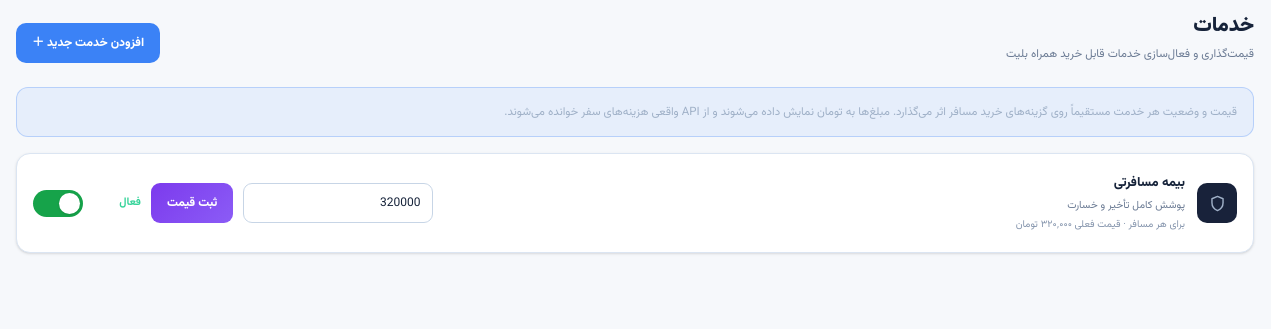
Scenario: CommercialServicesPage › renders real API rows and saves the edited toman price as rial
Expected: the heading "بیمه مسافرتی" is shown, [1114,173,1185,193]
Replace the text in the field named "قیمت بیمه مسافرتی" with "450000" at (338, 203), box [243,183,433,223]
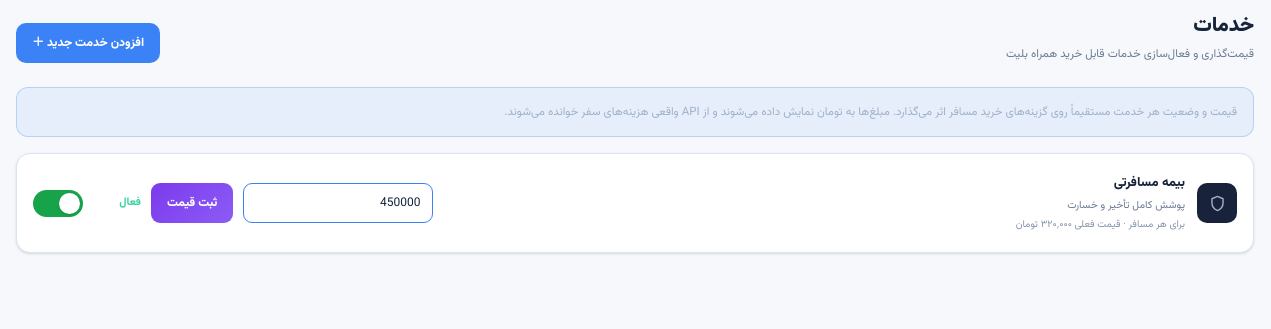
Click the button "ثبت قیمت" at (192, 203), box [151,183,233,223]
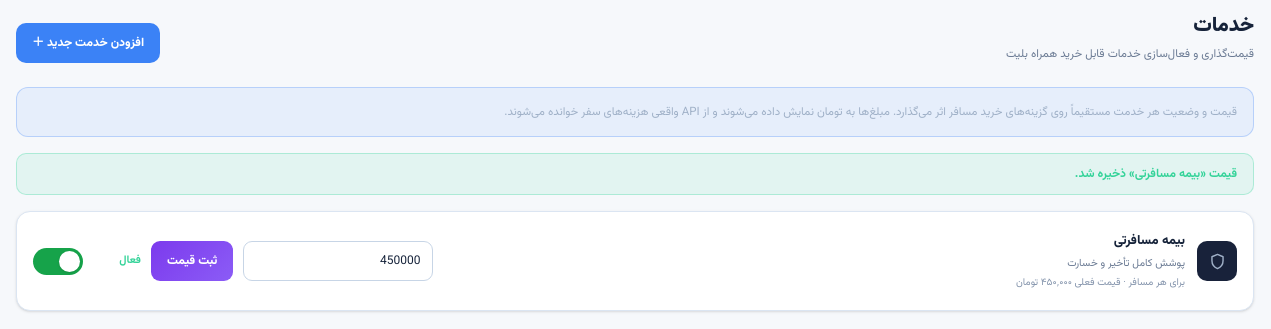
Result: the text "قیمت «بیمه مسافرتی» ذخیره شد." is shown at [16,153,1254,195]
